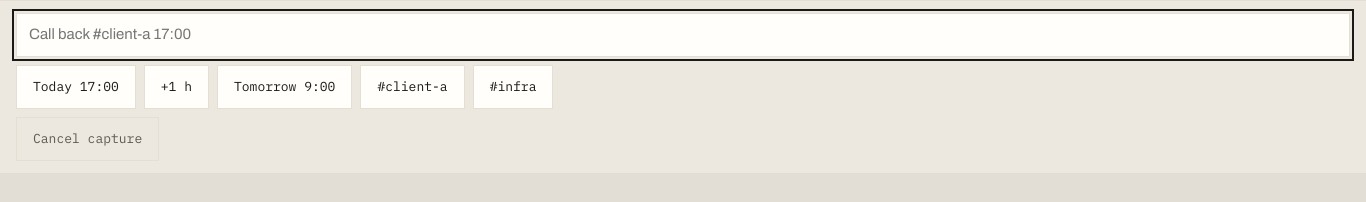
CommandBar presets (mobile, SG14) › +1h and tomorrow 9:00 insert their tokens on an empty draft
This screenshot has width=1366, height=202.
Click the button "+1 h" at (176, 87), box top-left (144, 65), bottom-right (209, 109)
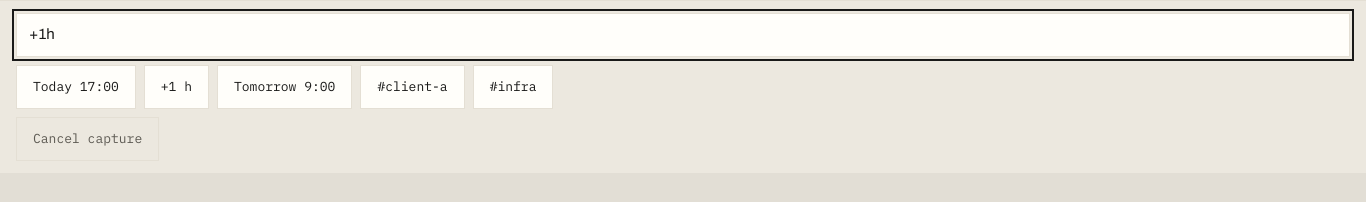
Now the field named "Capture a note" holds "+1h ", box top-left (16, 13), bottom-right (1350, 57)
Click the button "Tomorrow 9:00" at (285, 87), box top-left (217, 65), bottom-right (352, 109)
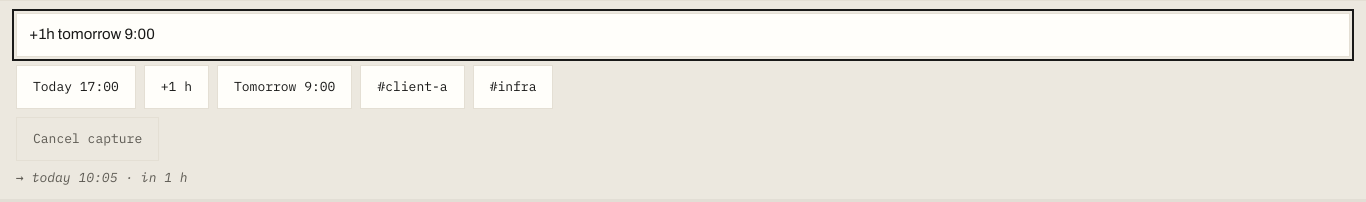
Now the field named "Capture a note" holds "+1h tomorrow 9:00 ", box top-left (16, 13), bottom-right (1350, 57)
